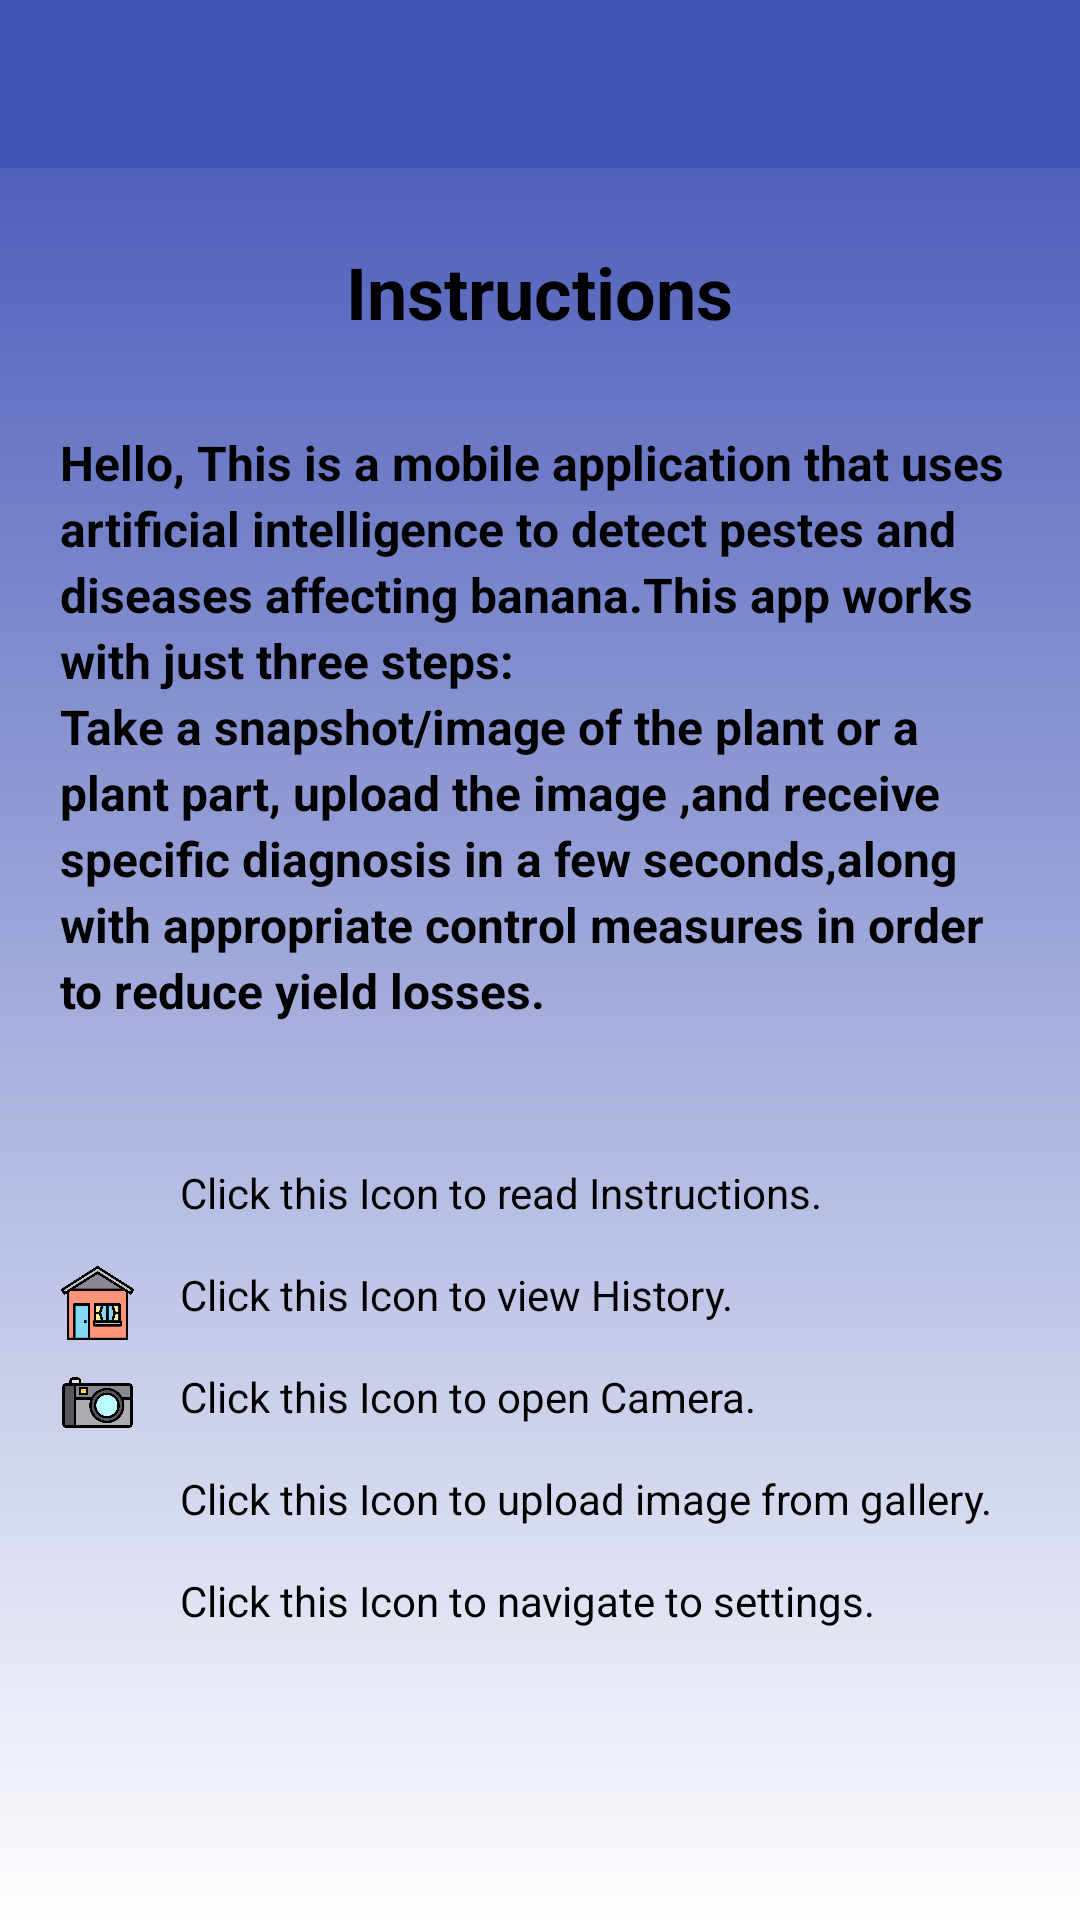

Icon click points for this 1080 × 1920 phone screenshot, format [x,y]:
home: [97,1303]
